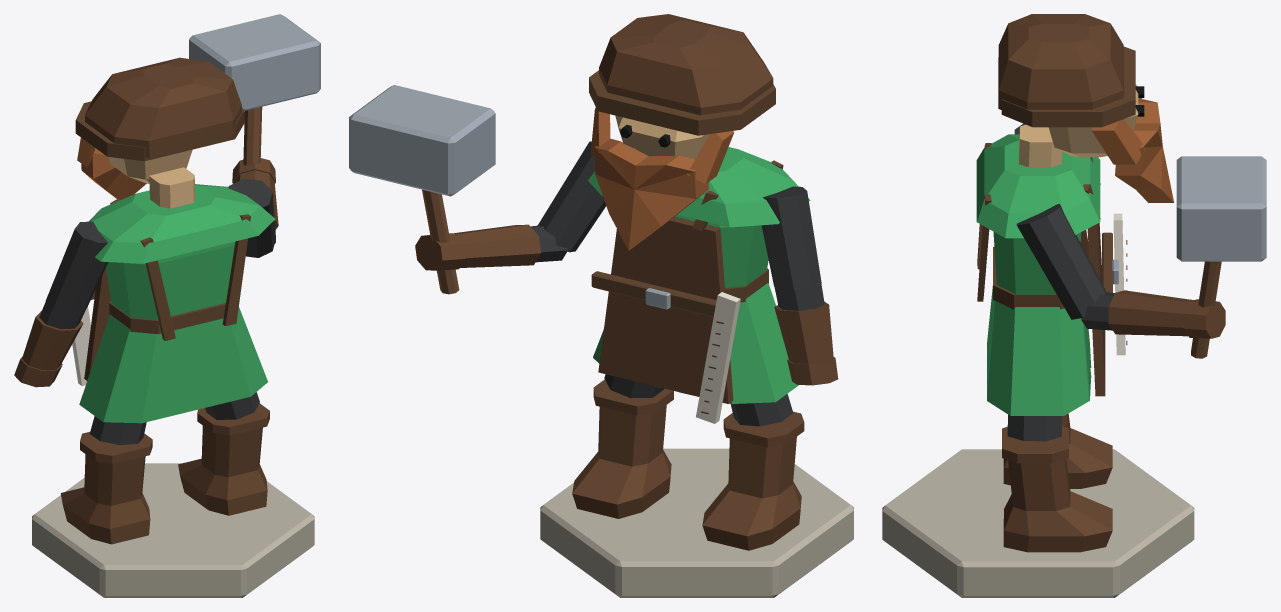
File: human_runebreaker_t2.glb
The picture shows the model from 3 angles, left to right: view 1: azimuth 30°, elevation 25°; view 2: azimuth 150°, elevation 25°; view 3: azimuth 270°, elevation 25°; orthographic projection. The views are drawn at different scales.
Visible parts, largest first — view 1: Foundation_Hexagonal_Stone, Continuous_Split_Tunic_Skirt, engineer_plain_faceted_workcap, Continuous_Shoulder_Mantle, engineer_plain_iron_hammer_head, Continuous_Tunic_Bodice, Boot_1, Boot_-1, left_upper_sleeve, left_bracer, engineer_broad_brown_cap_band, Small_Neck (+17 smaller); view 2: Foundation_Hexagonal_Stone, engineer_plain_leather_apron, engineer_plain_faceted_workcap, engineer_plain_iron_hammer_head, Boot_-1, Boot_1, engineer_one_copper_beard_wedge, Continuous_Split_Tunic_Skirt, Continuous_Shoulder_Mantle, left_upper_sleeve, engineer_broad_brown_cap_band, right_upper_sleeve (+16 smaller); view 3: Foundation_Hexagonal_Stone, engineer_plain_faceted_workcap, Continuous_Split_Tunic_Skirt, engineer_plain_iron_hammer_head, Continuous_Shoulder_Mantle, Boot_1, right_upper_sleeve, engineer_broad_brown_cap_band, right_bracer, engineer_one_copper_beard_wedge, Continuous_Tunic_Bodice, Boot_-1 (+13 smaller).
Boxes of the visible parts, bbox=[...] form: Foundation_Hexagonal_Stone: bbox=[32, 463, 314, 597]; Continuous_Split_Tunic_Skirt: bbox=[79, 307, 267, 423]; engineer_plain_faceted_workcap: bbox=[85, 57, 241, 157]; Continuous_Shoulder_Mantle: bbox=[89, 184, 275, 263]; engineer_plain_iron_hammer_head: bbox=[189, 14, 320, 110]; Continuous_Tunic_Bodice: bbox=[105, 241, 235, 319]; Boot_1: bbox=[178, 425, 267, 515]; Boot_-1: bbox=[60, 454, 150, 544]; left_upper_sleeve: bbox=[45, 221, 107, 313]; left_bracer: bbox=[22, 310, 83, 370]; engineer_broad_brown_cap_band: bbox=[75, 101, 244, 161]; Small_Neck: bbox=[149, 167, 195, 208]; Foundation_Hexagonal_Stone: bbox=[540, 448, 853, 597]; engineer_plain_leather_apron: bbox=[598, 217, 733, 403]; engineer_plain_faceted_workcap: bbox=[599, 14, 773, 115]; engineer_plain_iron_hammer_head: bbox=[349, 85, 495, 196]; Boot_-1: bbox=[702, 437, 801, 550]; Boot_1: bbox=[572, 405, 671, 518]; engineer_one_copper_beard_wedge: bbox=[594, 138, 708, 250]; Continuous_Split_Tunic_Skirt: bbox=[593, 283, 798, 403]; Continuous_Shoulder_Mantle: bbox=[588, 147, 810, 227]; left_upper_sleeve: bbox=[761, 186, 821, 290]; engineer_broad_brown_cap_band: bbox=[589, 70, 775, 135]; right_upper_sleeve: bbox=[537, 141, 606, 252]; Foundation_Hexagonal_Stone: bbox=[882, 449, 1194, 597]; engineer_plain_faceted_workcap: bbox=[998, 14, 1123, 109]; Continuous_Split_Tunic_Skirt: bbox=[987, 286, 1088, 415]; engineer_plain_iron_hammer_head: bbox=[1176, 156, 1266, 261]; Continuous_Shoulder_Mantle: bbox=[976, 134, 1100, 238]; Boot_1: bbox=[1003, 459, 1112, 552]; right_upper_sleeve: bbox=[1016, 204, 1106, 319]; engineer_broad_brown_cap_band: bbox=[1001, 46, 1135, 127]; right_bracer: bbox=[1108, 290, 1193, 336]; engineer_one_copper_beard_wedge: bbox=[1115, 99, 1173, 202]; Continuous_Tunic_Bodice: bbox=[993, 232, 1080, 294]; Boot_-1: bbox=[1003, 413, 1112, 488].
Bounding box in the file's own units: 1.33 × 1.68 × 1.14.
